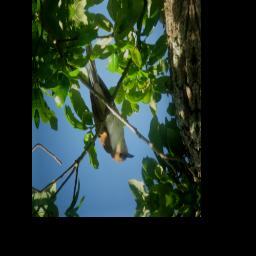Cuckoo: (83, 32, 137, 168)
